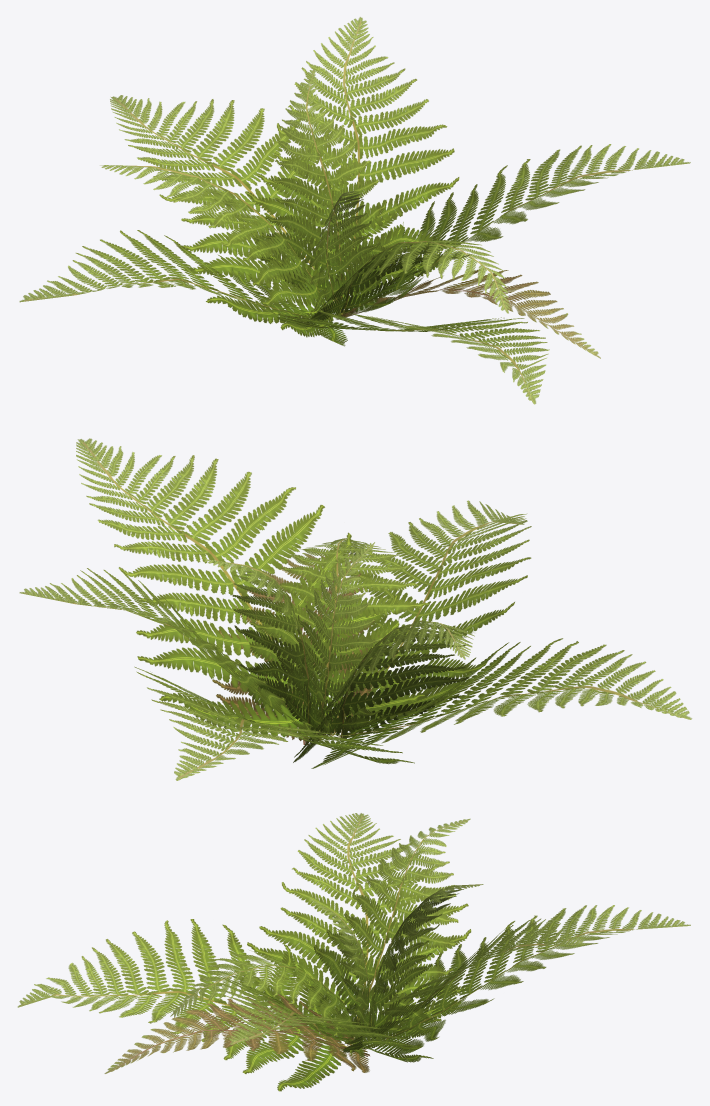
The model's file is SM_Plant_Grass_Fern_02.gltf.
3 views of the same model, one above another, from view 1: azimuth 30°, elevation 25°; view 2: azimuth 150°, elevation 25°; view 3: azimuth 270°, elevation 25° (orthographic). The views are drawn at different scales.
Parts seen in each view (by area): view 1: SM_Plant_Grass_Fern_02; view 2: SM_Plant_Grass_Fern_02; view 3: SM_Plant_Grass_Fern_02.
Part boxes in pixels (x1=…): SM_Plant_Grass_Fern_02: x1=19, y1=17, x2=690, y2=404; SM_Plant_Grass_Fern_02: x1=19, y1=438, x2=692, y2=780; SM_Plant_Grass_Fern_02: x1=17, y1=813, x2=690, y2=1091.
Bounding box in the file's own units: 1.55 × 0.5076 × 1.61.
Materials: 1 (1 with a texture image).
